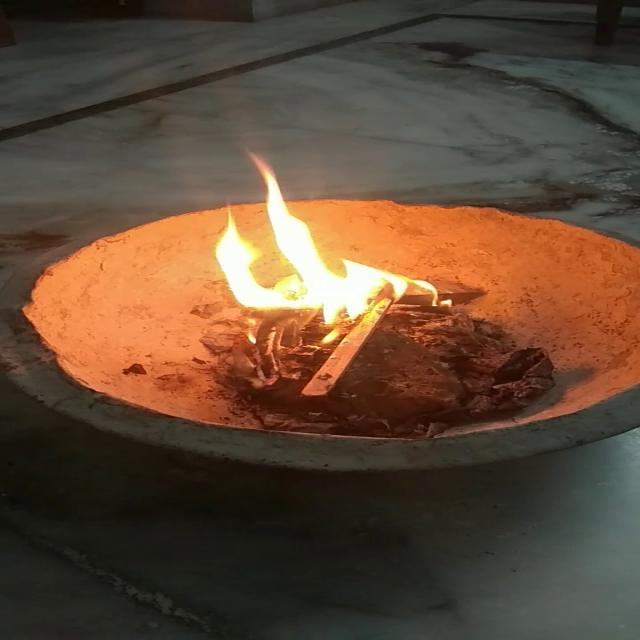fire: (212, 169, 448, 318)
